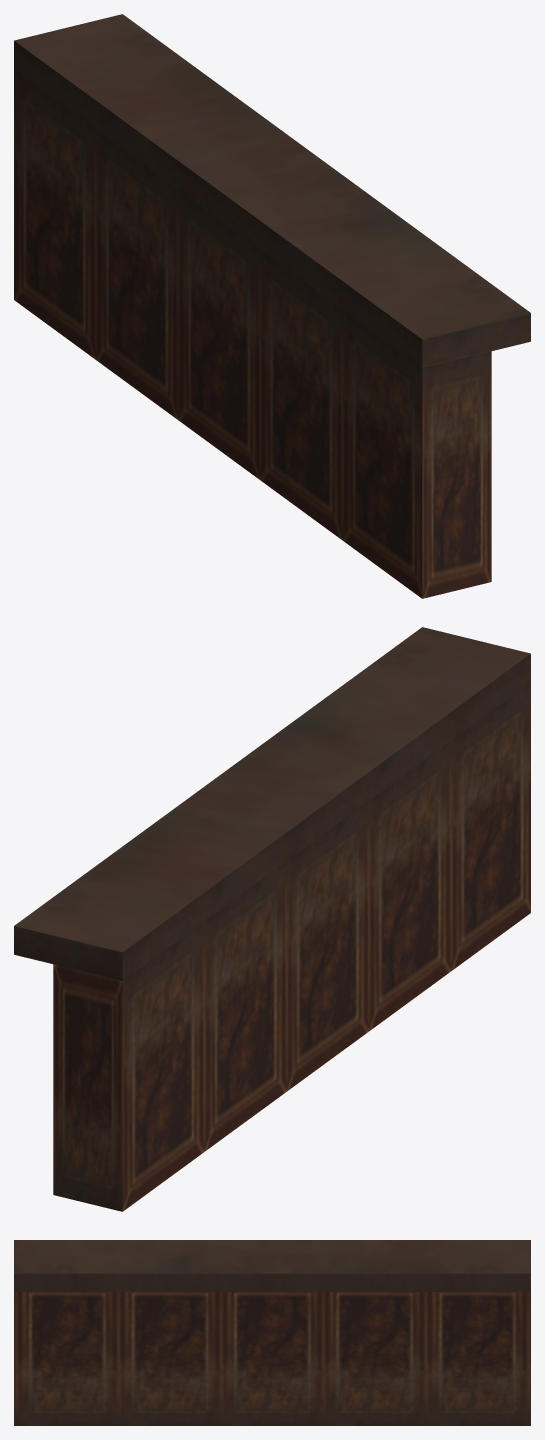
Rendered from bar.fbx.
3 views of the same model, one above another, from view 1: azimuth 30°, elevation 25°; view 2: azimuth 150°, elevation 25°; view 3: azimuth 270°, elevation 25° (orthographic). The views are drawn at different scales.
Visible parts, largest first — view 1: Cube; view 2: Cube; view 3: Cube.
Boxes of the visible parts, x1,y1,x2,y2 form: Cube: [14, 14, 530, 598]; Cube: [14, 627, 530, 1211]; Cube: [14, 1240, 530, 1425].
Size of the model in its own units: 142 by 324 by 923.
1 material, 1 textured.
